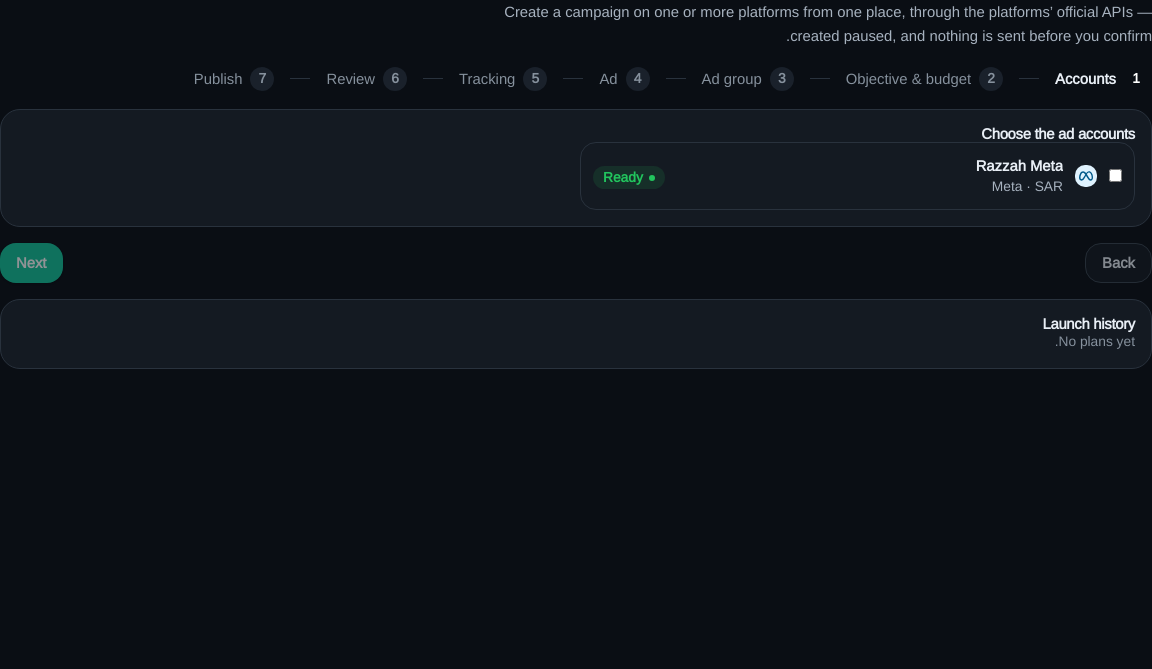
Test: the launch page › calculates a budget split, shows each account its share and amount, and applies it on request
The width and height of the screenshot is (1152, 669).
Click the checkbox with test id "launch-account-acc1" at point(1116, 176), box [1109, 170, 1122, 182]
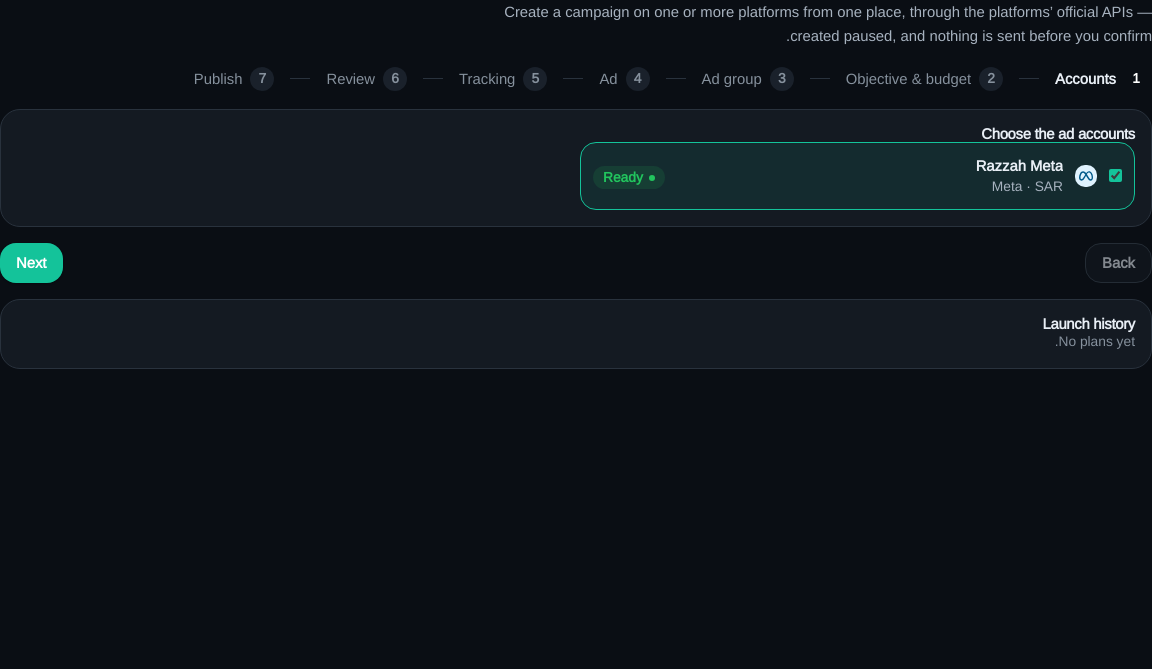
Click the button with test id "launch-next" at point(31, 263), box [0, 243, 62, 283]
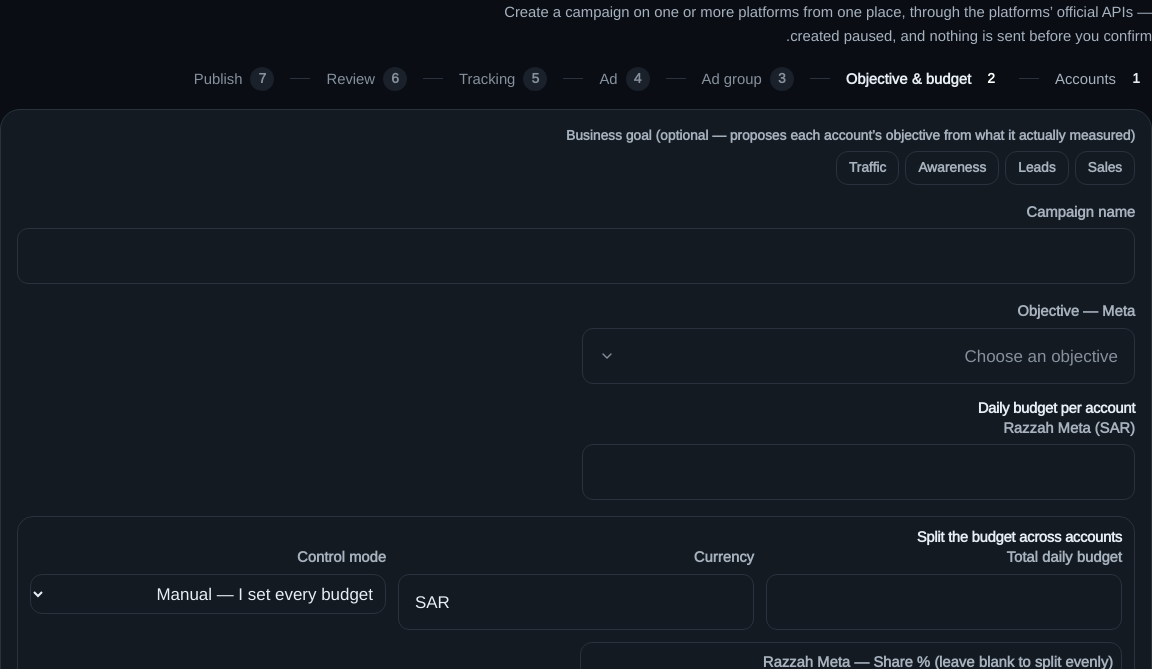
Type "100" into the number field with test id "launch-budget-total" at point(944, 602), box [766, 574, 1122, 630]
(page scrolled)
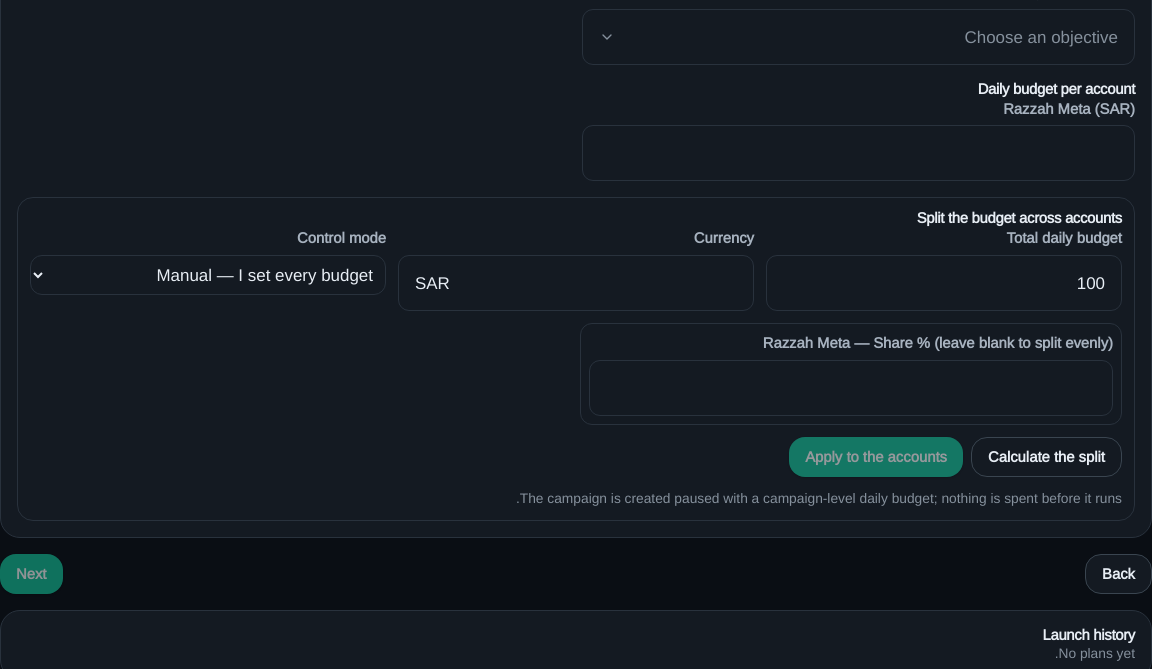
Click the button with test id "launch-split-calc" at point(1046, 457), box [971, 437, 1122, 477]
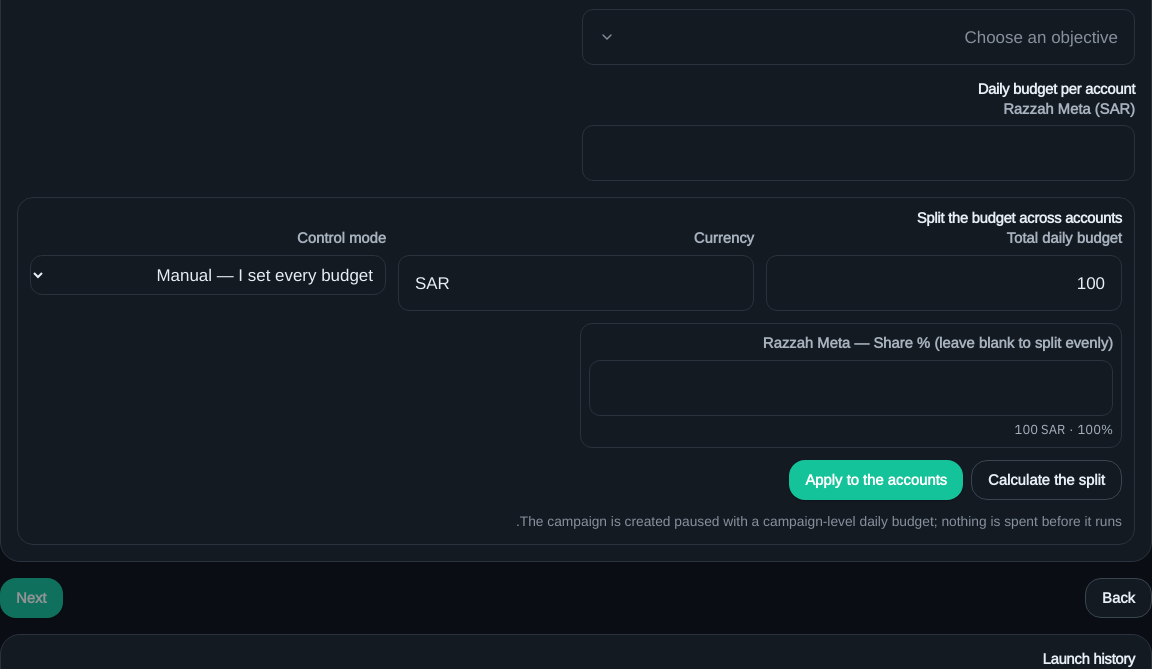
Now the number field with test id "launch-budget-acc1" is empty, box [582, 126, 1135, 182]
Now the element with test id "launch-split-acc1" reads "100% · 100 SAR", box [1015, 420, 1113, 439]
Click the button with test id "launch-split-apply" at point(876, 480), box [789, 460, 963, 500]
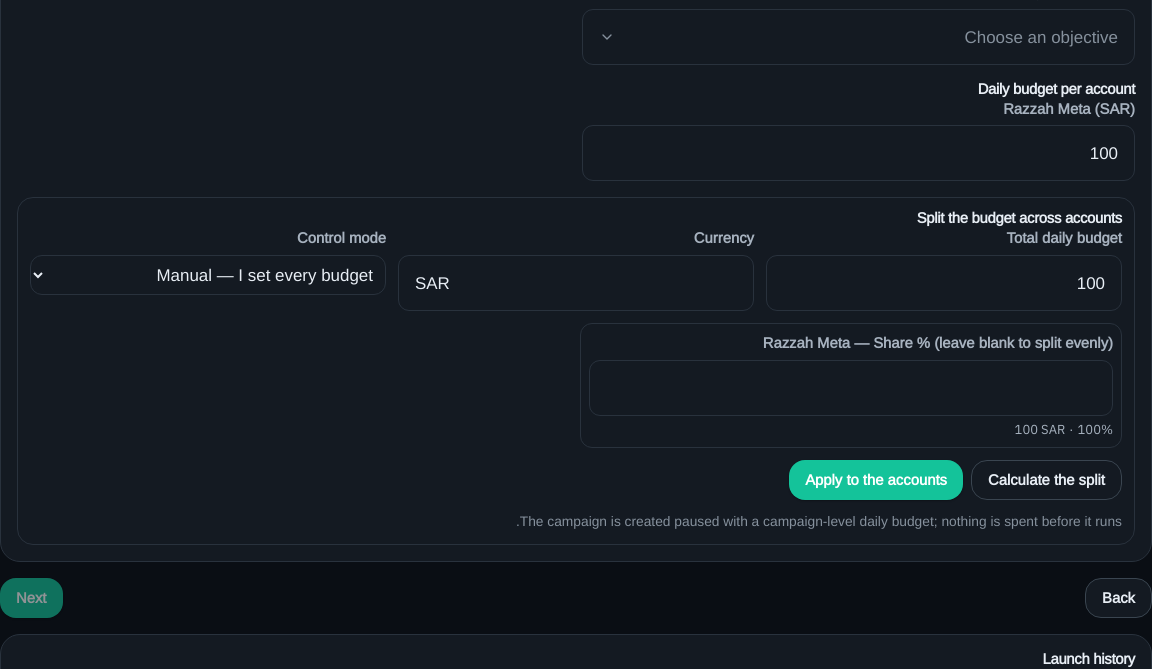
Now the number field with test id "launch-budget-acc1" holds "100", box [582, 126, 1135, 182]
